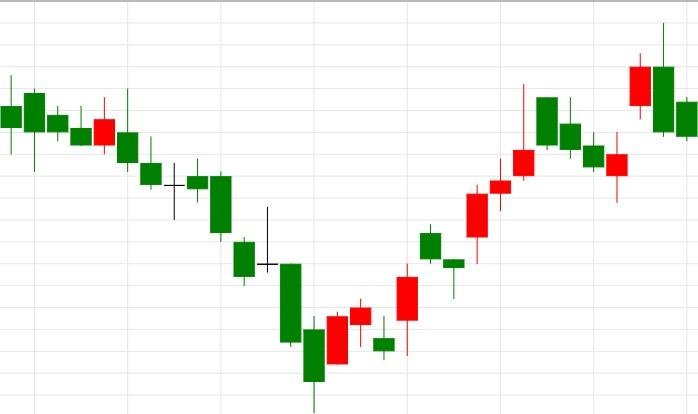shooting_star_fall: (443, 84, 535, 298)
